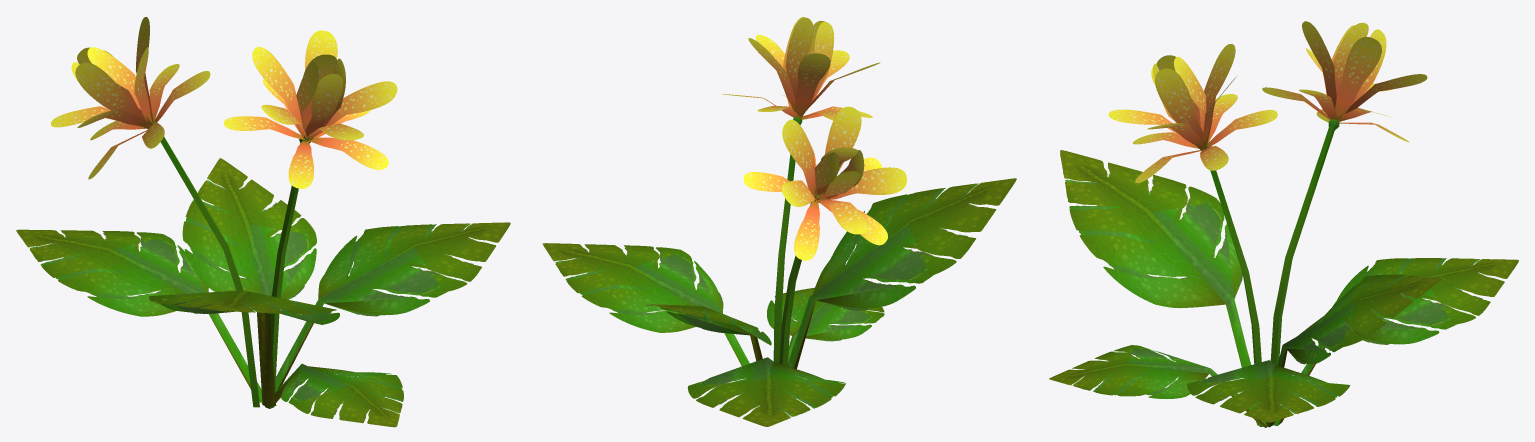
The model's file is peruskasvi_plain.FBX.
3 views of the same model, side by side, from view 1: azimuth 30°, elevation 25°; view 2: azimuth 150°, elevation 25°; view 3: azimuth 270°, elevation 25° (orthographic). The views are drawn at different scales.
Parts seen in each view (by area): view 1: peruskasvi_lehti, peruskasvi_lehti003, peruskasvi_lehti001, peruskasvi_teralehti, peruskasvi_teralehti001, peruskasvi_lehti004, peruskasvi_lehti002, peruskasvi_kukkavarsi001, peruskasvi_kukkavarsi; view 2: peruskasvi_lehti002, peruskasvi_lehti, peruskasvi_teralehti001, peruskasvi_lehti001, peruskasvi_teralehti, peruskasvi_lehti004, peruskasvi_lehti003, peruskasvi_kukkavarsi, peruskasvi_kukkavarsi001; view 3: peruskasvi_lehti002, peruskasvi_teralehti, peruskasvi_lehti001, peruskasvi_teralehti001, peruskasvi_lehti003, peruskasvi_lehti, peruskasvi_lehti004, peruskasvi_kukkavarsi001, peruskasvi_kukkavarsi.
Part boxes in pixels (left/top/right/bottom): peruskasvi_lehti: left=262, top=222, right=510, bottom=403; peruskasvi_lehti003: left=182, top=158, right=316, bottom=313; peruskasvi_lehti001: left=16, top=229, right=262, bottom=402; peruskasvi_teralehti: left=223, top=30, right=397, bottom=188; peruskasvi_teralehti001: left=51, top=17, right=210, bottom=179; peruskasvi_lehti004: left=274, top=363, right=403, bottom=427; peruskasvi_lehti002: left=149, top=290, right=339, bottom=406; peruskasvi_kukkavarsi001: left=151, top=121, right=259, bottom=407; peruskasvi_kukkavarsi: left=265, top=138, right=310, bottom=408; peruskasvi_lehti002: left=788, top=178, right=1016, bottom=373; peruskasvi_lehti: left=542, top=243, right=749, bottom=366; peruskasvi_teralehti001: left=743, top=106, right=906, bottom=260; peruskasvi_lehti001: left=687, top=357, right=845, bottom=426; peruskasvi_teralehti: left=722, top=17, right=880, bottom=120; peruskasvi_lehti004: left=767, top=287, right=884, bottom=363; peruskasvi_lehti003: left=645, top=304, right=771, bottom=360; peruskasvi_kukkavarsi: left=773, top=115, right=802, bottom=363; peruskasvi_kukkavarsi001: left=778, top=195, right=819, bottom=411; peruskasvi_lehti002: left=1060, top=150, right=1260, bottom=425; peruskasvi_teralehti: left=1108, top=44, right=1277, bottom=182; peruskasvi_lehti001: left=1273, top=258, right=1518, bottom=425; peruskasvi_teralehti001: left=1262, top=21, right=1427, bottom=142; peruskasvi_lehti003: left=1263, top=274, right=1440, bottom=427; peruskasvi_lehti: left=1187, top=360, right=1350, bottom=427; peruskasvi_lehti004: left=1049, top=345, right=1267, bottom=426; peruskasvi_kukkavarsi001: left=1270, top=117, right=1339, bottom=365; peruskasvi_kukkavarsi: left=1202, top=144, right=1263, bottom=426.
Size of the model in its own units: 73.21 by 64.82 by 73.66.
